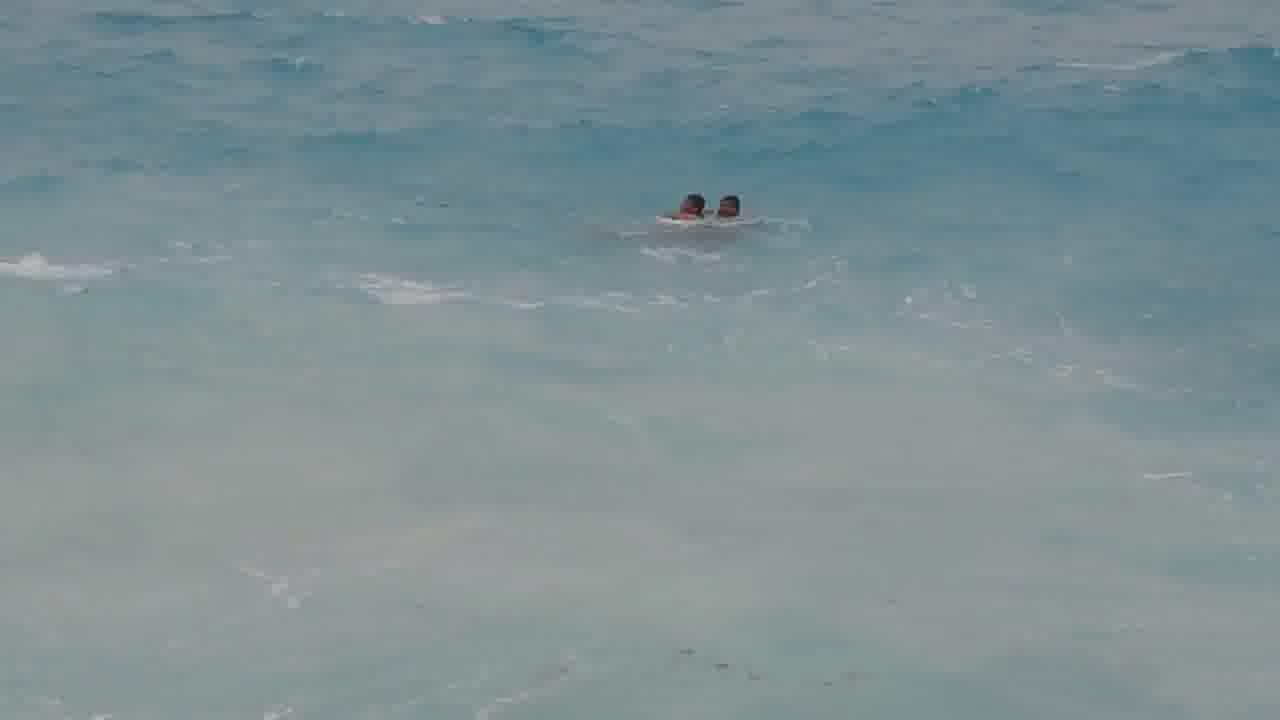swimmer: (655, 188, 717, 235), (708, 188, 760, 230)
